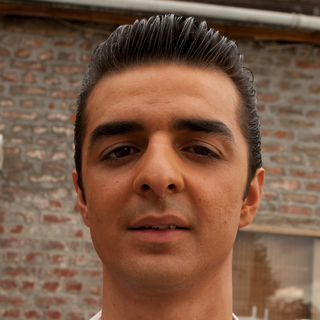eye: (179, 140, 226, 164), (98, 140, 144, 164)
